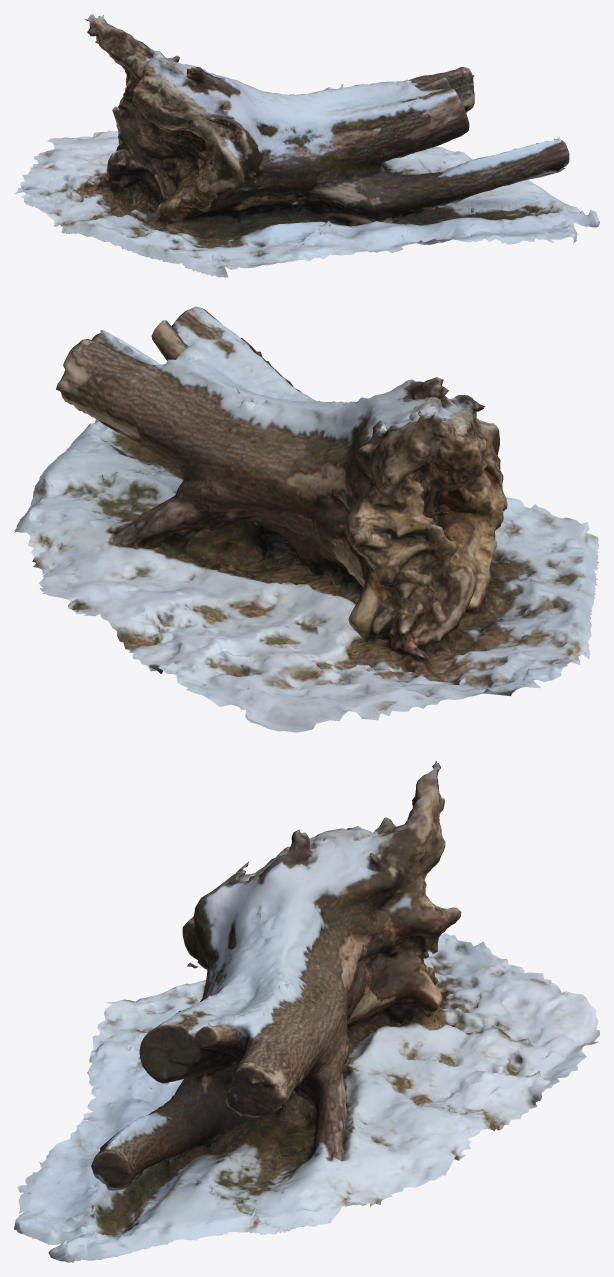
The model's file is drevo.glb.
3 views of the same model, one above another, from view 1: azimuth 30°, elevation 25°; view 2: azimuth 150°, elevation 25°; view 3: azimuth 270°, elevation 25° (orthographic). The views are drawn at different scales.
Visible parts, largest first — view 1: Object_2; view 2: Object_2; view 3: Object_2.
Boxes of the visible parts, x1,y1,x2,y2 form: Object_2: (14, 14, 599, 277); Object_2: (14, 306, 598, 732); Object_2: (14, 761, 599, 1262).
Bounding box in the file's own units: 3.24 × 1.39 × 2.8.
1 material, 1 textured.
